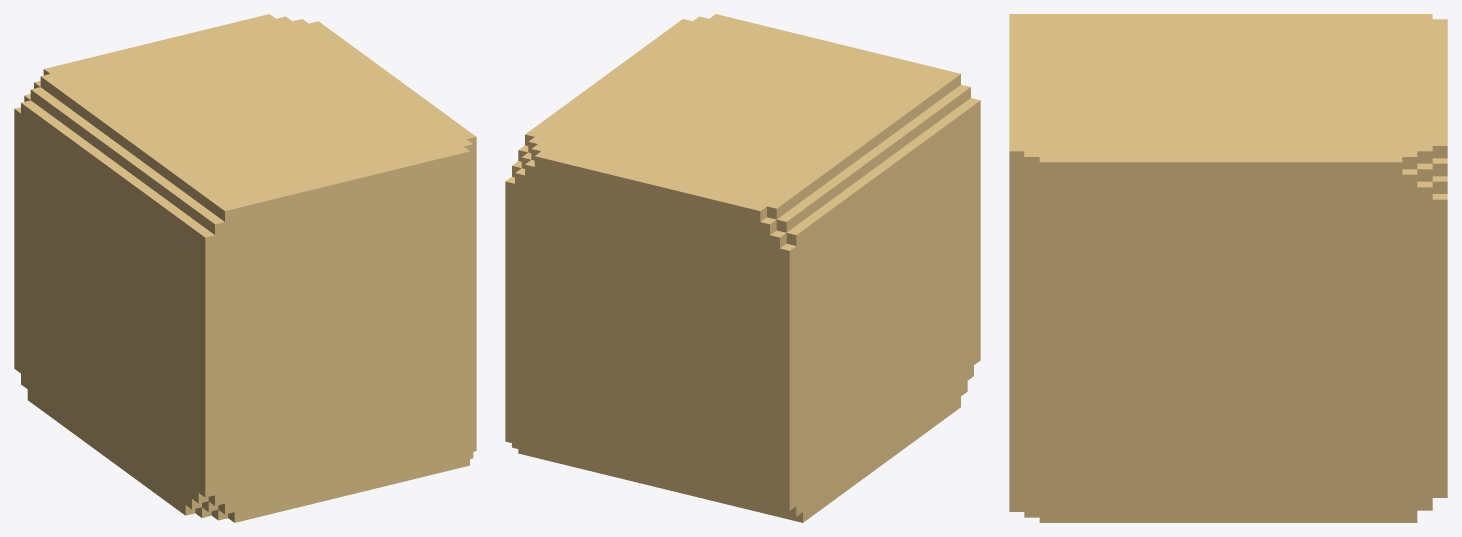
Rendered from BrickV4.fbx.
3 renders of one model, left to right at view 1: azimuth 30°, elevation 25°; view 2: azimuth 150°, elevation 25°; view 3: azimuth 270°, elevation 25°, orthographic. The views are drawn at different scales.
Visible parts, largest first — view 1: BrickV4; view 2: BrickV4; view 3: BrickV4.
Part boxes in pixels (x1,y1,x2,y2): BrickV4: (14, 14, 476, 522); BrickV4: (505, 14, 980, 522); BrickV4: (1009, 14, 1447, 522).
Bounding box in the file's own units: 0.3816 × 0.4436 × 0.4028.
